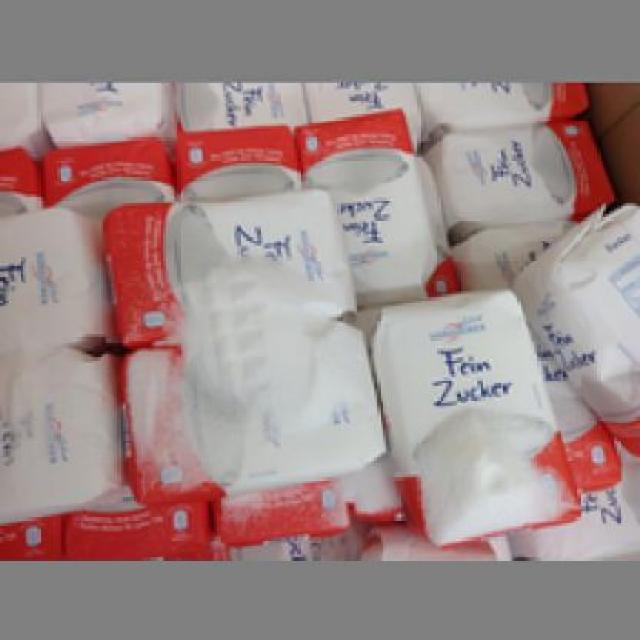Sugar: (369, 280, 580, 549), (120, 323, 386, 500), (95, 183, 352, 340), (508, 200, 638, 454), (286, 102, 440, 295), (440, 109, 617, 228)
